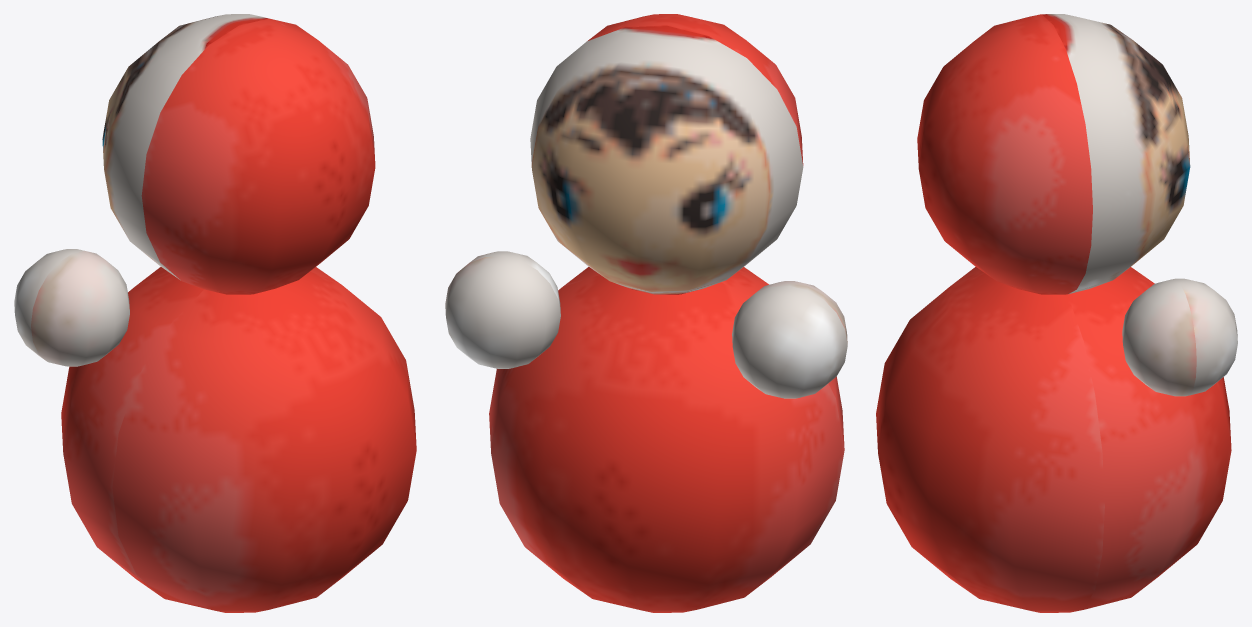
File: Doll2.fbx
3 renders of one model, left to right at view 1: azimuth 30°, elevation 25°; view 2: azimuth 150°, elevation 25°; view 3: azimuth 270°, elevation 25°, orthographic.
Parts seen in each view (by area): view 1: Sphere.001; view 2: Sphere.001; view 3: Sphere.001.
Part boxes in pixels (x1,y1,x2,y2): Sphere.001: (14,14,416,612); Sphere.001: (445,14,847,612); Sphere.001: (876,14,1237,612).
Size of the model in its own units: 26.96 by 42.25 by 24.22.
